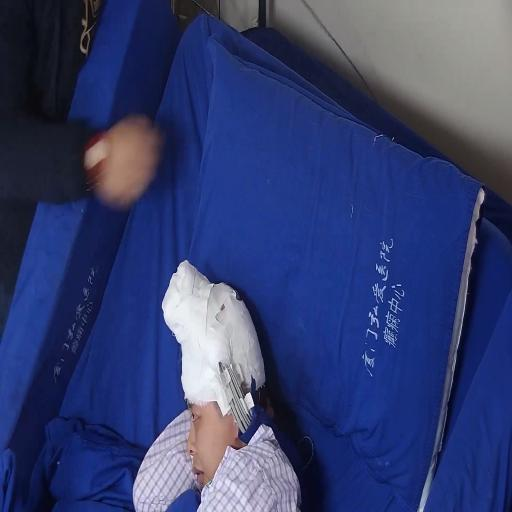Seizure: (172, 359, 247, 489)
